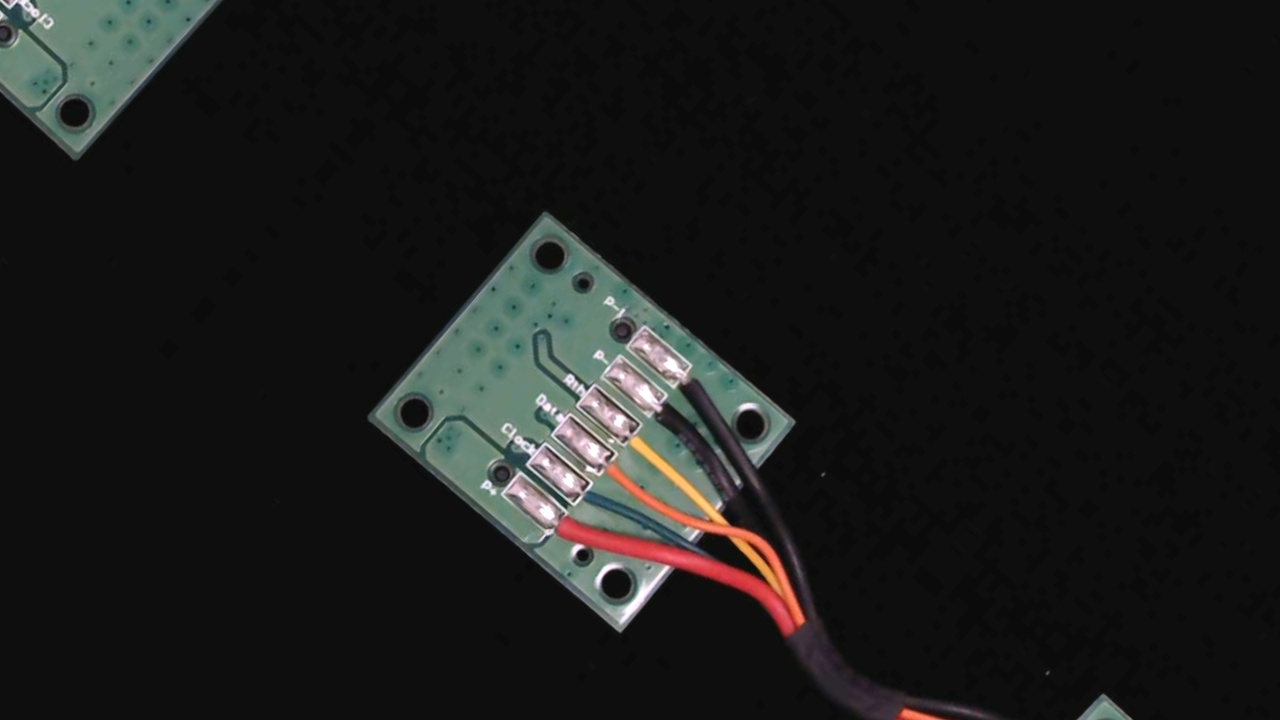Black: (634, 384, 711, 458)
Black1: (662, 354, 735, 423)
Green: (559, 468, 624, 531)
Orange: (584, 441, 660, 513)
Red: (533, 499, 608, 571)
Yellow: (608, 412, 687, 487)
